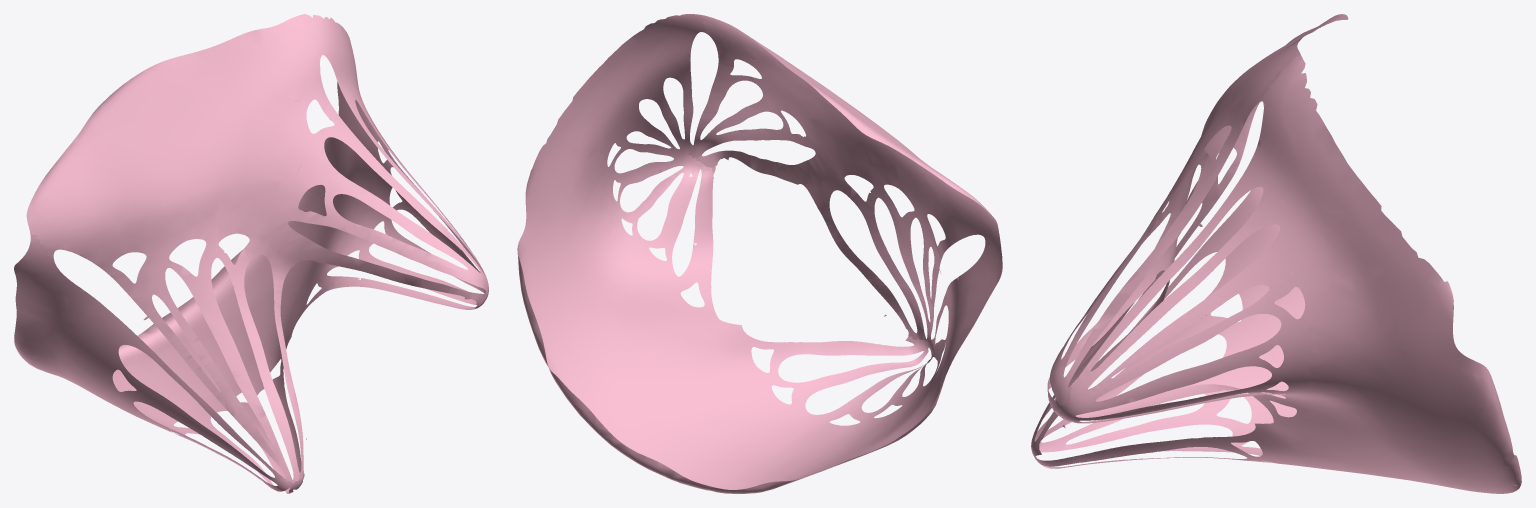
File: katup_bikuspid.glb
3 renders of one model, left to right at view 1: azimuth 30°, elevation 25°; view 2: azimuth 150°, elevation 25°; view 3: azimuth 270°, elevation 25°, orthographic. The views are drawn at different scales.
Parts seen in each view (by area): view 1: MM544_BP51793_FMA7243_Posterior leaflet of mitral valve; view 2: MM544_BP51793_FMA7243_Posterior leaflet of mitral valve; view 3: MM544_BP51793_FMA7243_Posterior leaflet of mitral valve.
Boxes of the visible parts, x1,y1,x2,y2 form: MM544_BP51793_FMA7243_Posterior leaflet of mitral valve: (14, 14, 488, 493); MM544_BP51793_FMA7243_Posterior leaflet of mitral valve: (517, 14, 1002, 493); MM544_BP51793_FMA7243_Posterior leaflet of mitral valve: (1031, 14, 1521, 493).
Bounding box in the file's own units: 0.0354 × 0.0328 × 0.0306.
